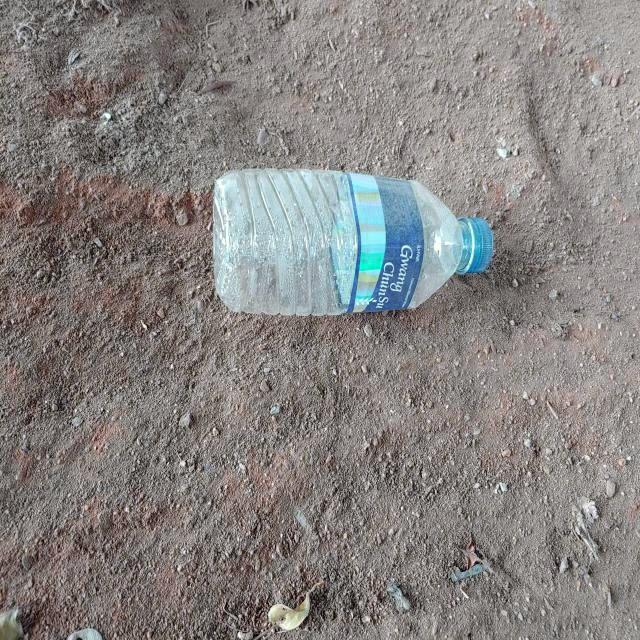bottle: (213, 167, 495, 317)
